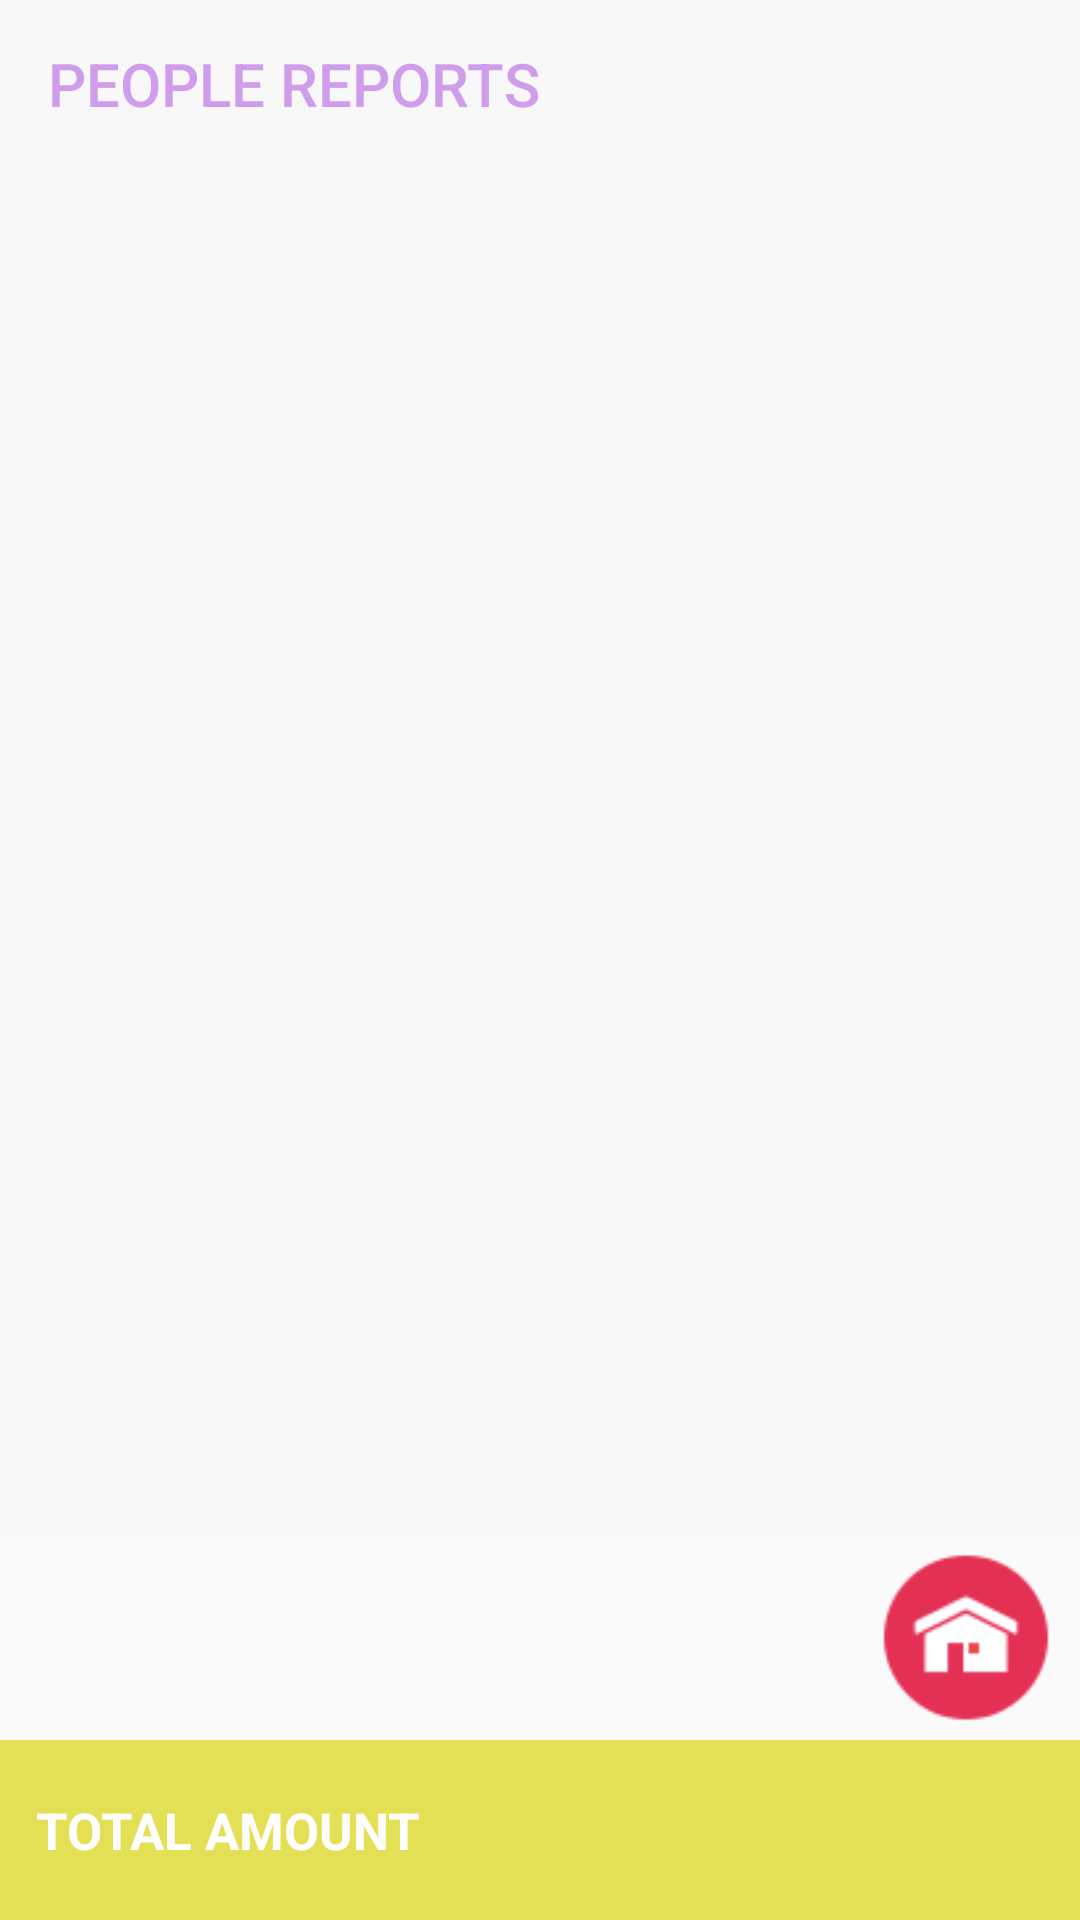

Icon click points for this 1080w x 1920h phone screenshot, format point (x, y):
home: point (966, 1637)
